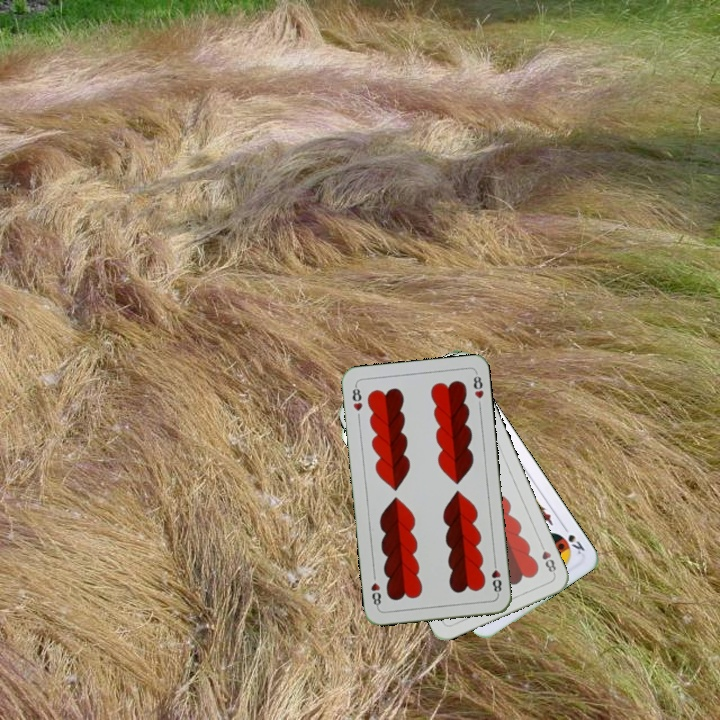H8: (536, 538, 559, 577), (488, 557, 504, 597), (348, 381, 365, 414)
SK: (558, 521, 587, 557)
